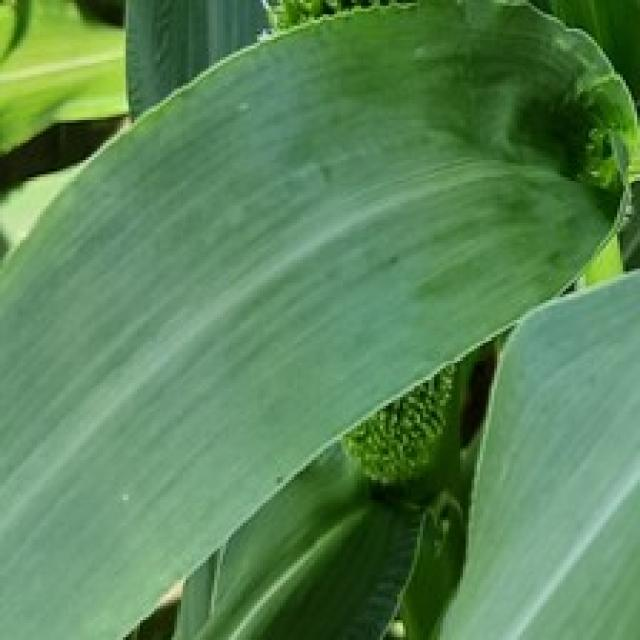Corn: (0, 0, 637, 637), (414, 252, 637, 637)
